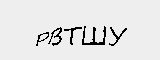В: (49, 27, 62, 49)
Р: (34, 32, 48, 47)
Т: (64, 25, 81, 46)
У: (108, 26, 127, 48)
Ш: (83, 24, 108, 46)
